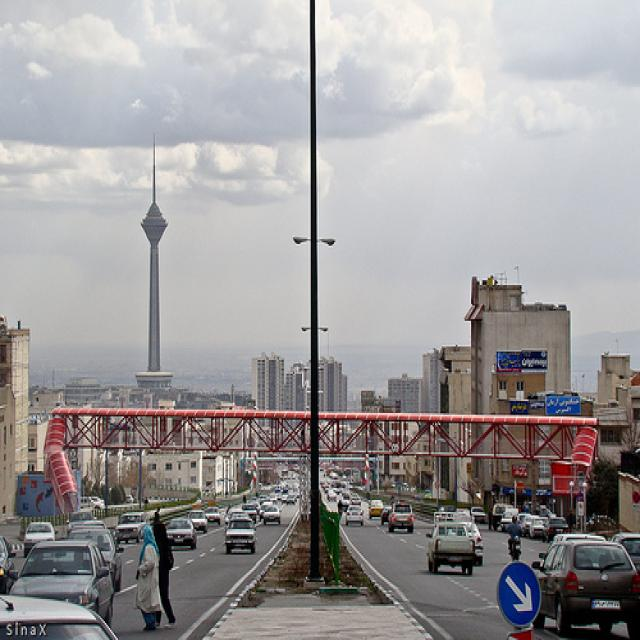motor: (512, 535, 522, 562)
